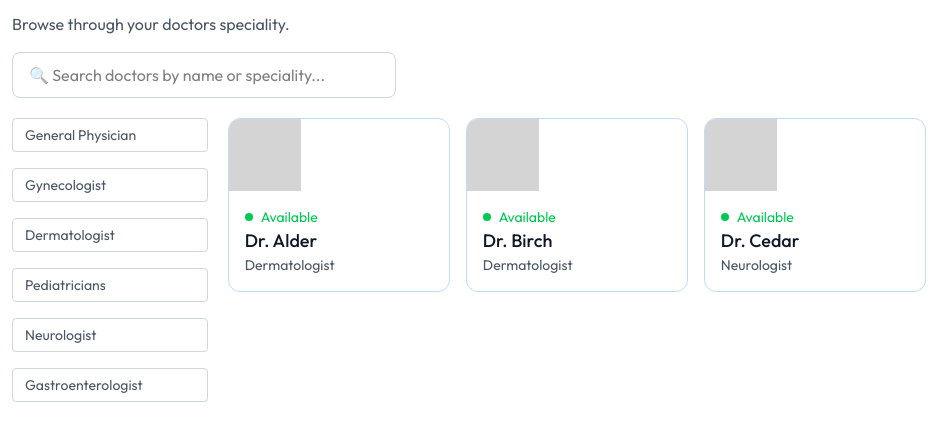
Test: Doctors › searches speciality as well as name
Type "neuro" into the field with placeholder "🔍 Search doctors by name or speciality..." at coordinates (204, 75), box [12,52,396,98]
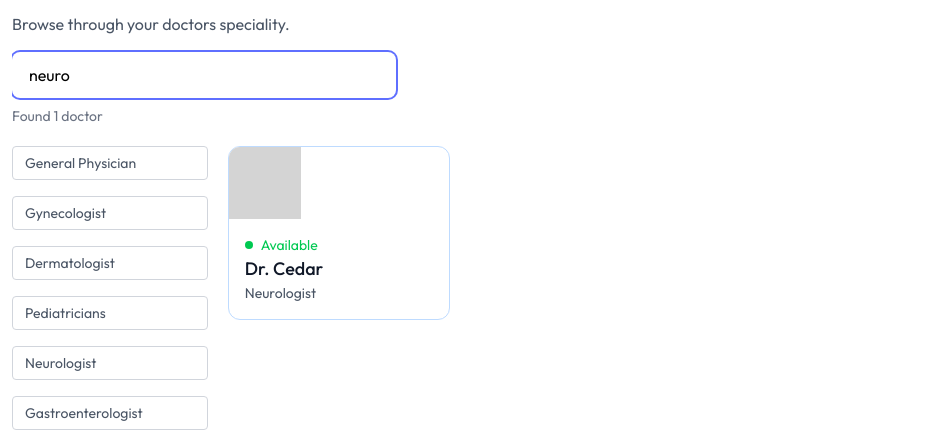
Result: the text "Dr. Cedar" is shown at [245,257,323,280]
Result: the text "Dr. Alder" is gone
